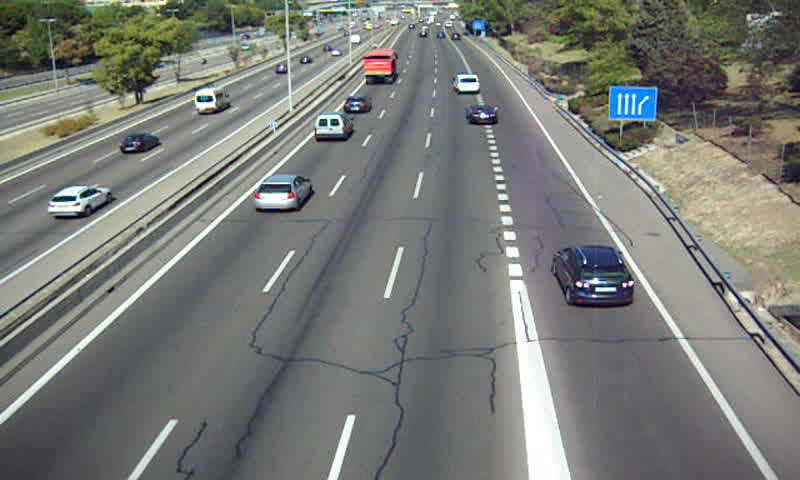car: (554, 245, 635, 307), (252, 174, 312, 212), (466, 105, 500, 125), (342, 95, 370, 113)
truck: (362, 48, 399, 81)
van: (314, 114, 350, 140), (453, 74, 482, 95)
